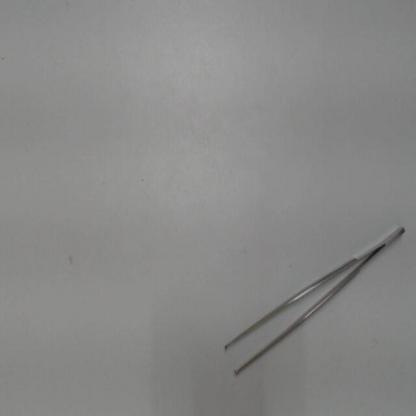Gillies Toothed Dissector: (212, 220, 411, 384)
